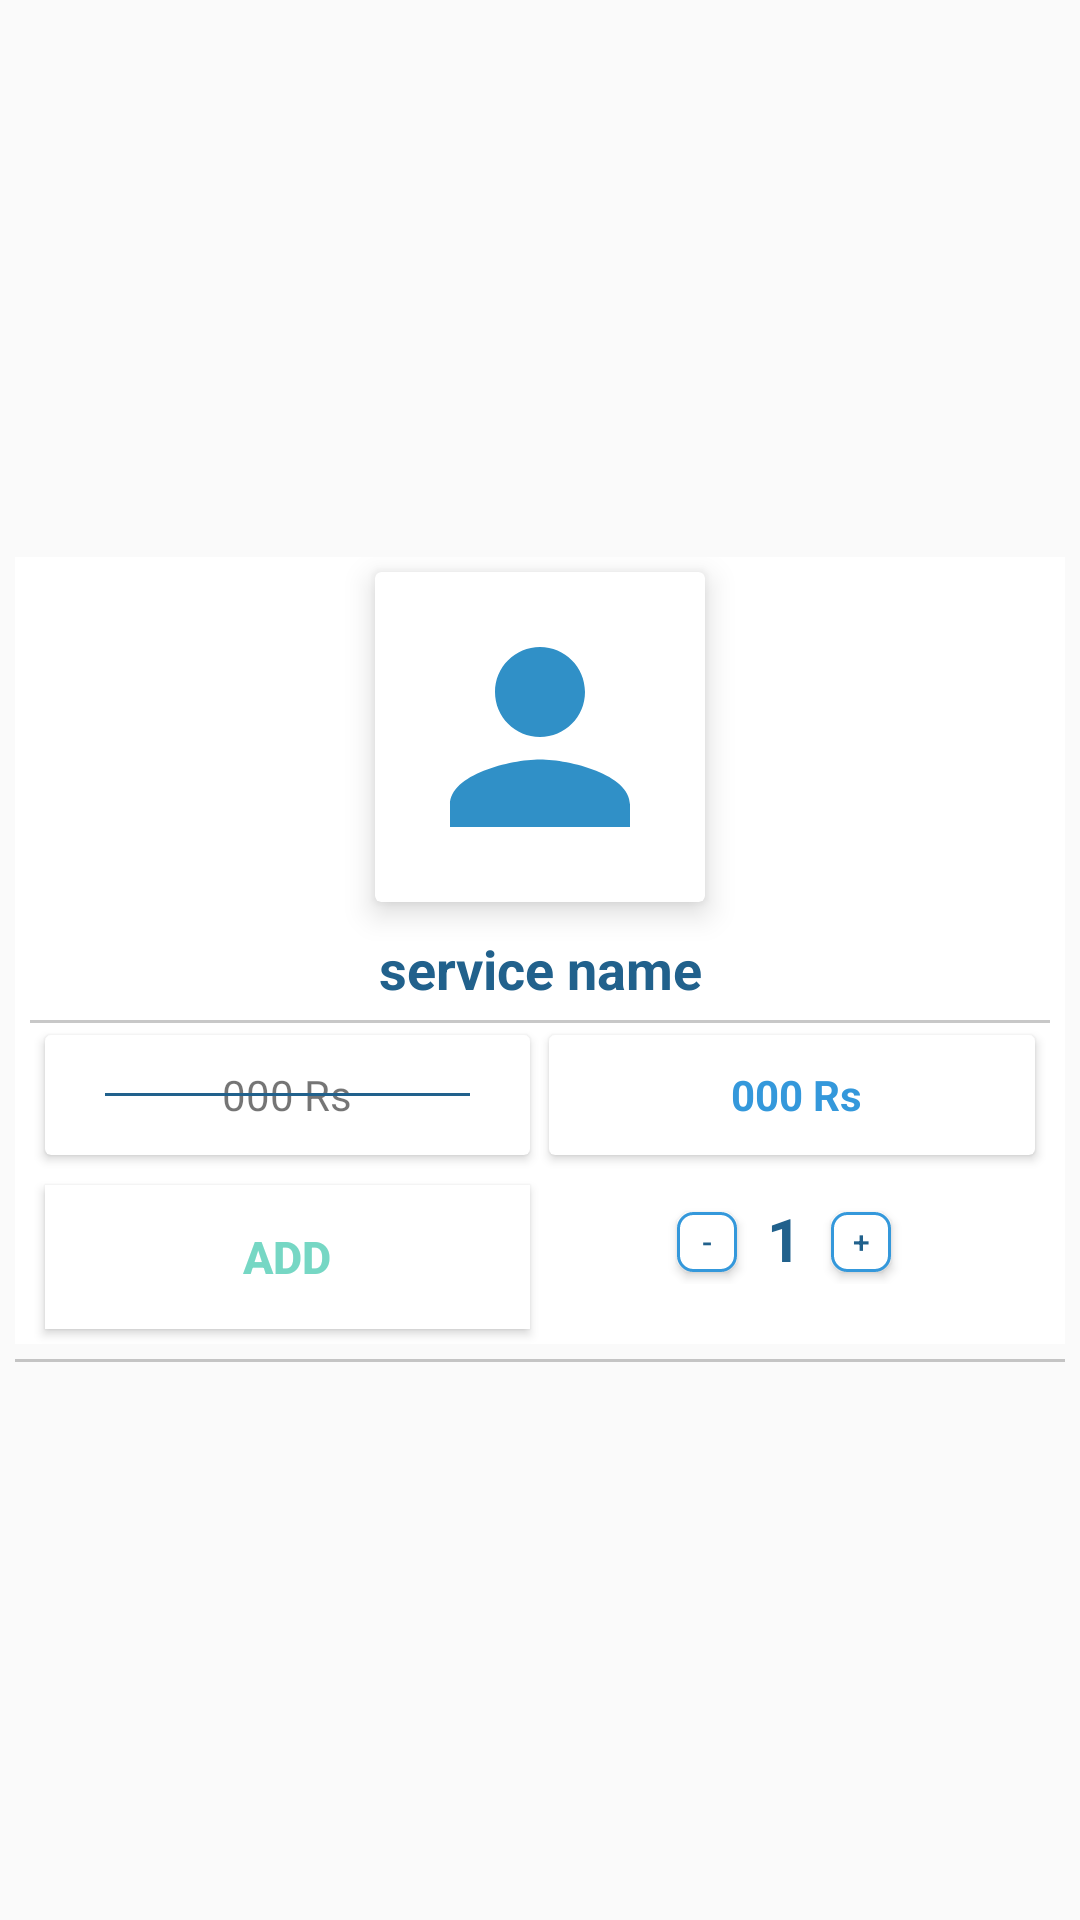

Icon click points for this 1080 x 1920 phone screenshot, format (x,y):
person: (540,737)
